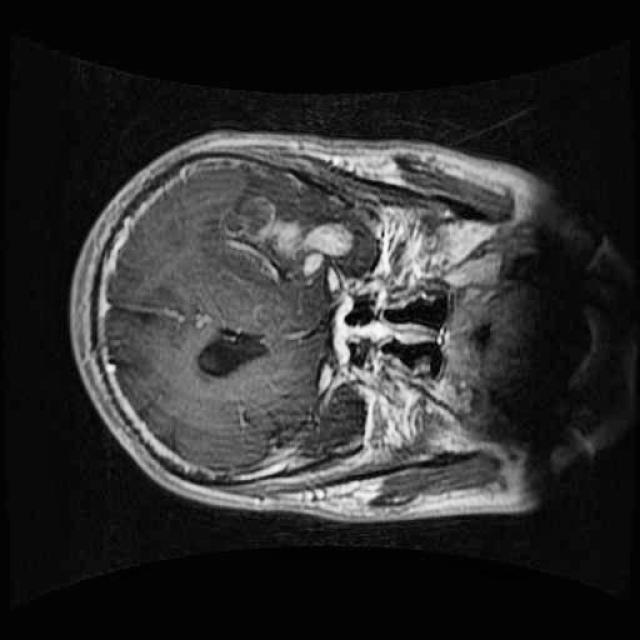Non-Tumor: (198, 178, 366, 306)
